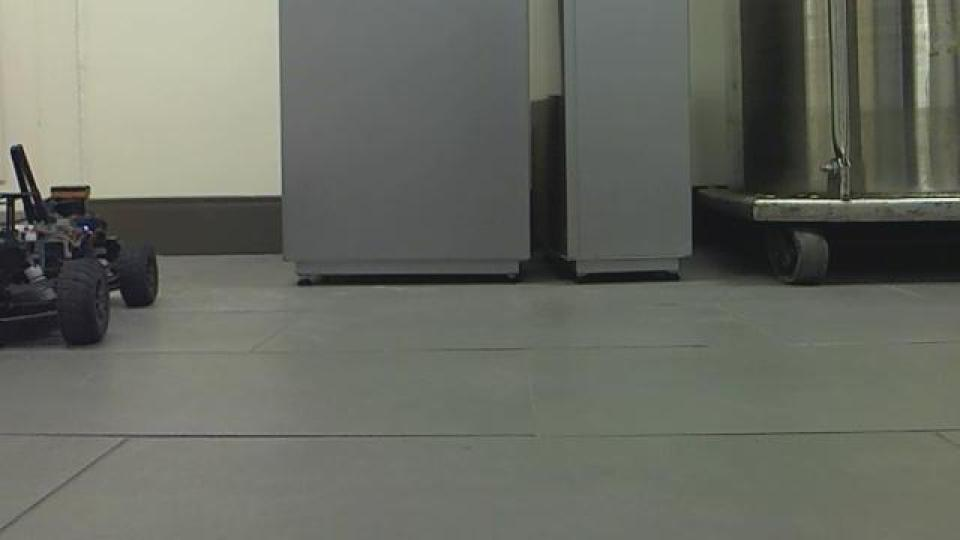car: (2, 141, 160, 349)
